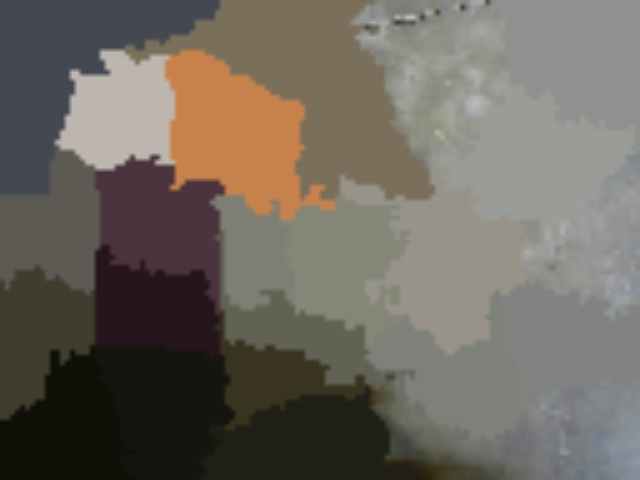three: (72, 72, 115, 107)
